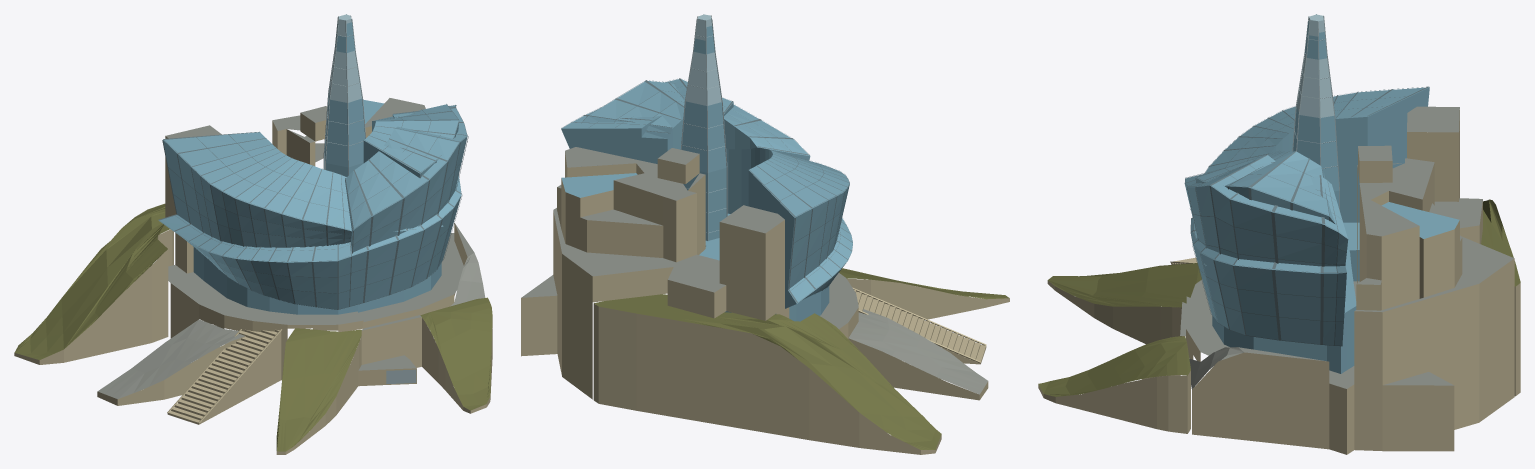
The model's file is canadian-museum-for-human-rights-far.glb.
3 renders of one model, left to right at view 1: azimuth 30°, elevation 25°; view 2: azimuth 150°, elevation 25°; view 3: azimuth 270°, elevation 25°, orthographic. The views are drawn at different scales.
Visible parts, largest first — view 1: canadian-museum-for-human-rights-0-glass, canadian-museum-for-human-rights-0-stone, canadian-museum-for-human-rights-0-grass, canadian-museum-for-human-rights-0-roof, canadian-museum-for-human-rights-0-frame, canadian-museum-for-human-rights-0-towerClear, canadian-museum-for-human-rights-0-glow; view 2: canadian-museum-for-human-rights-0-stone, canadian-museum-for-human-rights-0-glass, canadian-museum-for-human-rights-0-roof, canadian-museum-for-human-rights-0-grass, canadian-museum-for-human-rights-0-frame, canadian-museum-for-human-rights-0-towerClear, canadian-museum-for-human-rights-0-glow; view 3: canadian-museum-for-human-rights-0-stone, canadian-museum-for-human-rights-0-glass, canadian-museum-for-human-rights-0-roof, canadian-museum-for-human-rights-0-grass, canadian-museum-for-human-rights-0-frame, canadian-museum-for-human-rights-0-towerClear, canadian-museum-for-human-rights-0-glow.
Part boxes in pixels (x1,y1,x2,y2): canadian-museum-for-human-rights-0-glass: (158, 22, 467, 314); canadian-museum-for-human-rights-0-stone: (14, 113, 492, 454); canadian-museum-for-human-rights-0-grass: (14, 203, 492, 451); canadian-museum-for-human-rights-0-roof: (97, 98, 485, 399); canadian-museum-for-human-rights-0-frame: (158, 104, 468, 309); canadian-museum-for-human-rights-0-towerClear: (329, 14, 361, 102); canadian-museum-for-human-rights-0-glow: (323, 14, 416, 384); canadian-museum-for-human-rights-0-stone: (521, 152, 1009, 454); canadian-museum-for-human-rights-0-glass: (561, 26, 852, 321); canadian-museum-for-human-rights-0-roof: (521, 147, 987, 394); canadian-museum-for-human-rights-0-grass: (594, 268, 1009, 449); canadian-museum-for-human-rights-0-frame: (561, 78, 852, 302); canadian-museum-for-human-rights-0-towerClear: (686, 14, 721, 105); canadian-museum-for-human-rights-0-glow: (680, 14, 727, 240); canadian-museum-for-human-rights-0-stone: (1038, 110, 1520, 454); canadian-museum-for-human-rights-0-glass: (1185, 20, 1459, 373); canadian-museum-for-human-rights-0-roof: (1180, 106, 1514, 389); canadian-museum-for-human-rights-0-grass: (1038, 199, 1520, 396); canadian-museum-for-human-rights-0-frame: (1184, 86, 1428, 346); canadian-museum-for-human-rights-0-towerClear: (1296, 14, 1334, 117); canadian-museum-for-human-rights-0-glow: (1292, 14, 1339, 210).
Size of the model in its own units: 135 by 100 by 120.
